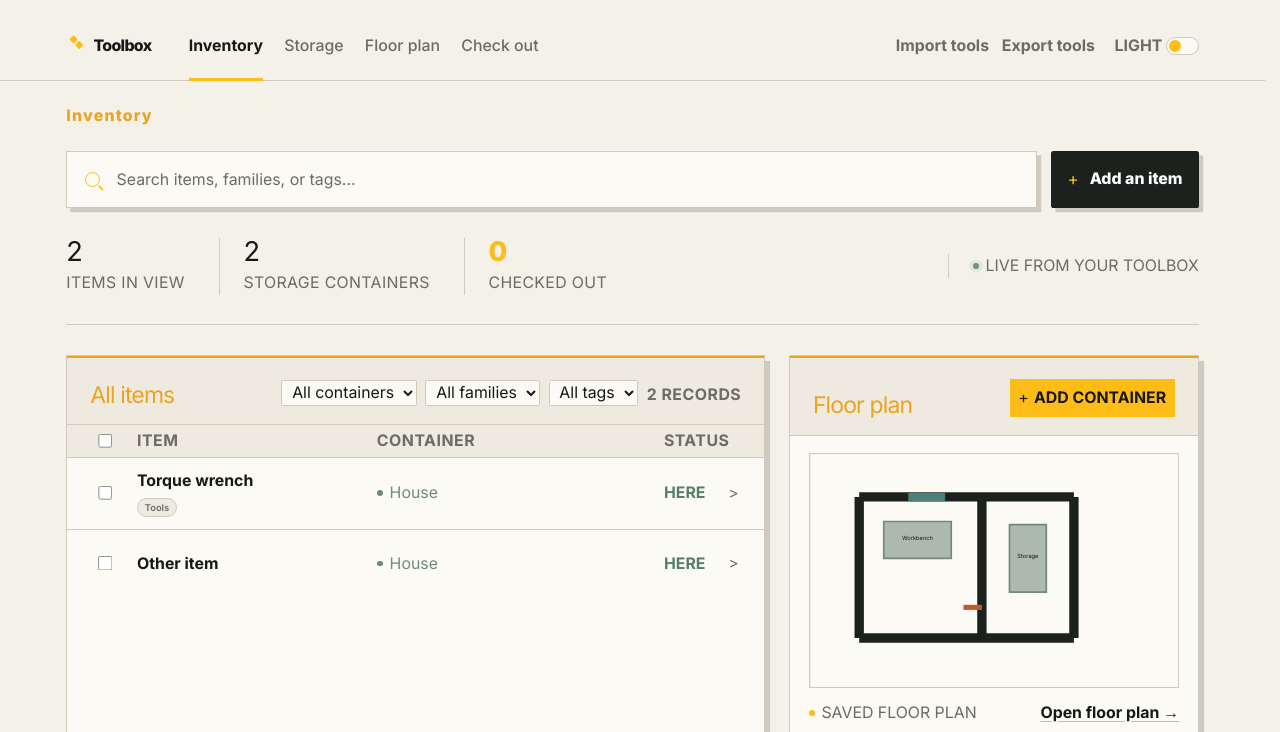
Test: inventory navigation › filters by tag and selects only visible items from the column header
Expected: the text "Other item" is shown, [137, 554, 218, 573]
Select "Tools" in the 3rd dropdown named "Filter by tag" at x=593, y=393, box [549, 380, 638, 406]
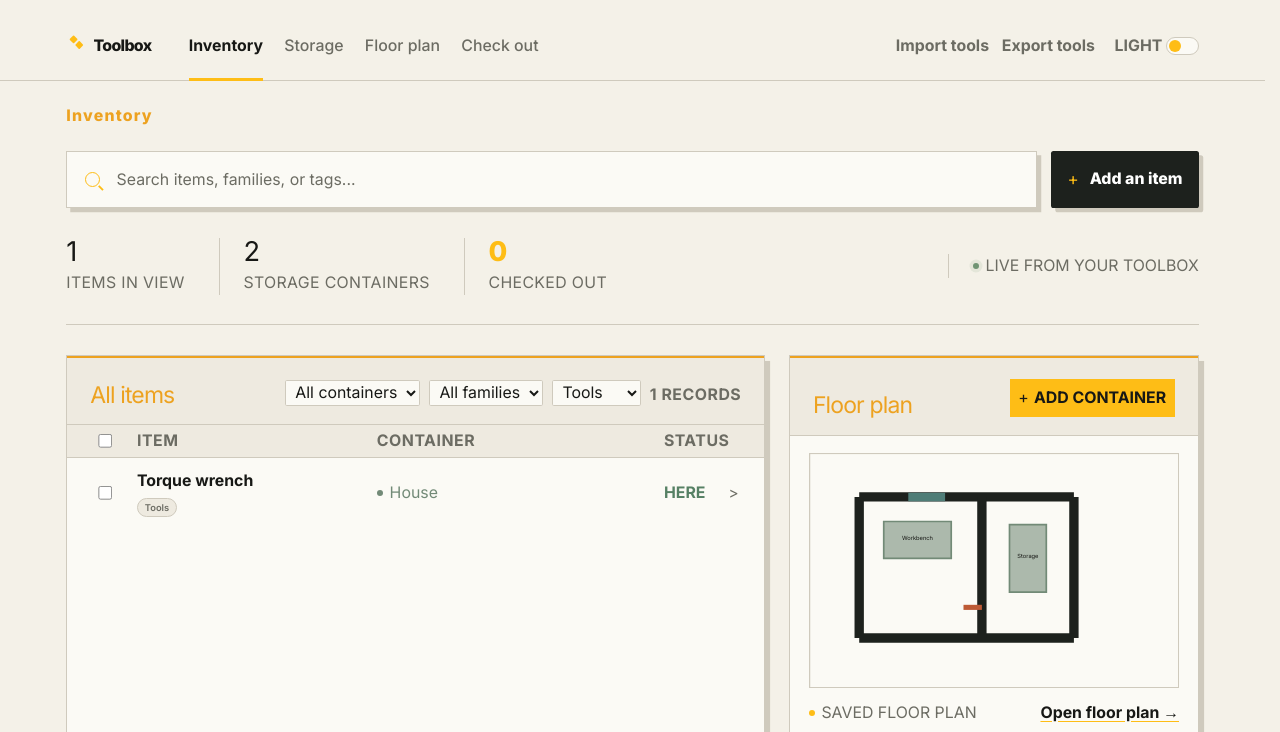
Now the button "Other item" is gone
Click the checkbox named "Select all".
click(106, 441)  # box [98, 434, 113, 448]
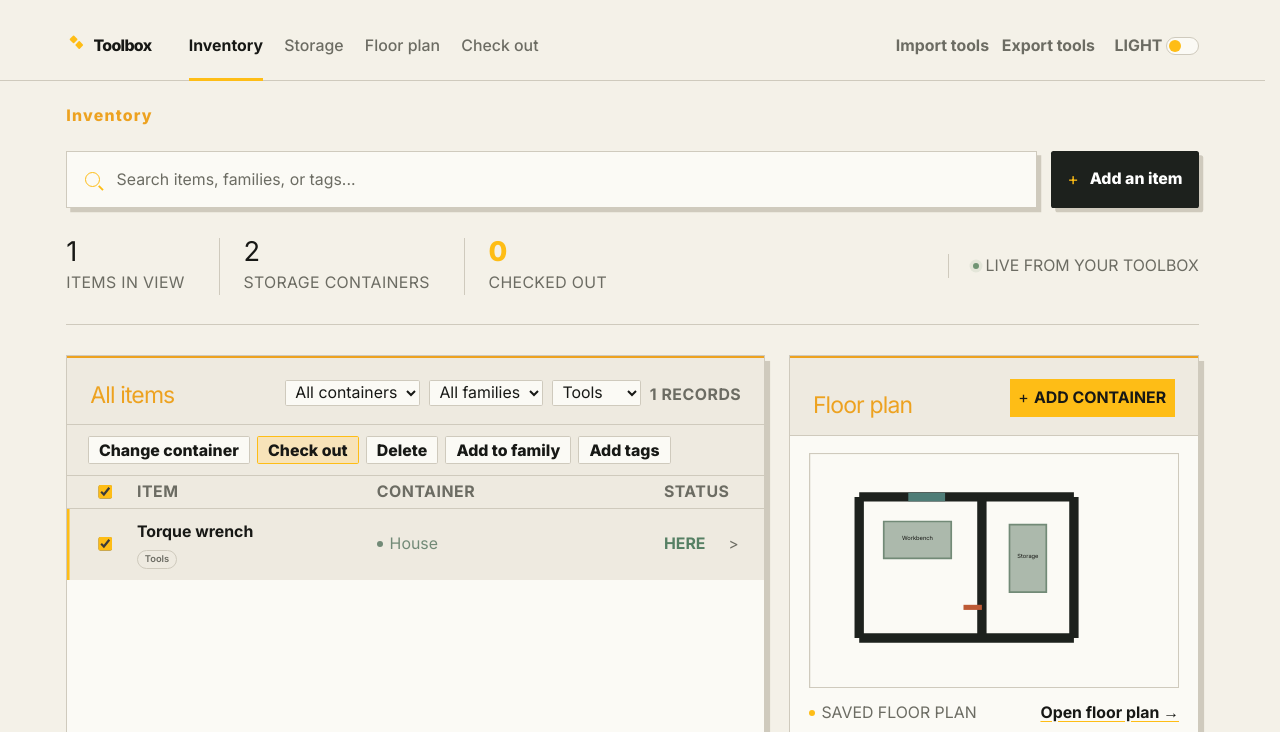
Now the checkbox named "Select Torque wrench" is checked, box [98, 537, 113, 551]
Select "All tags" in the 3rd dropdown named "Filter by tag" at x=596, y=393, box [552, 380, 641, 406]
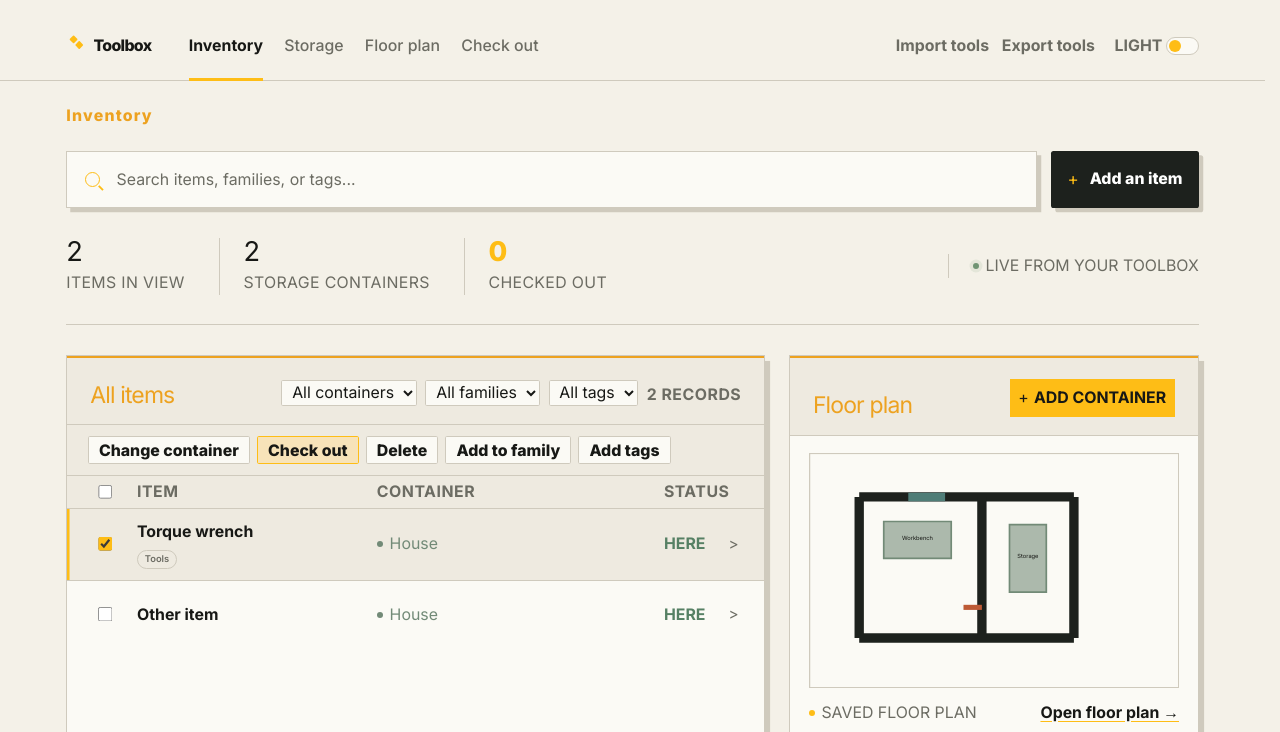
Now the checkbox named "Select Other item" is not checked, box [98, 607, 113, 622]
